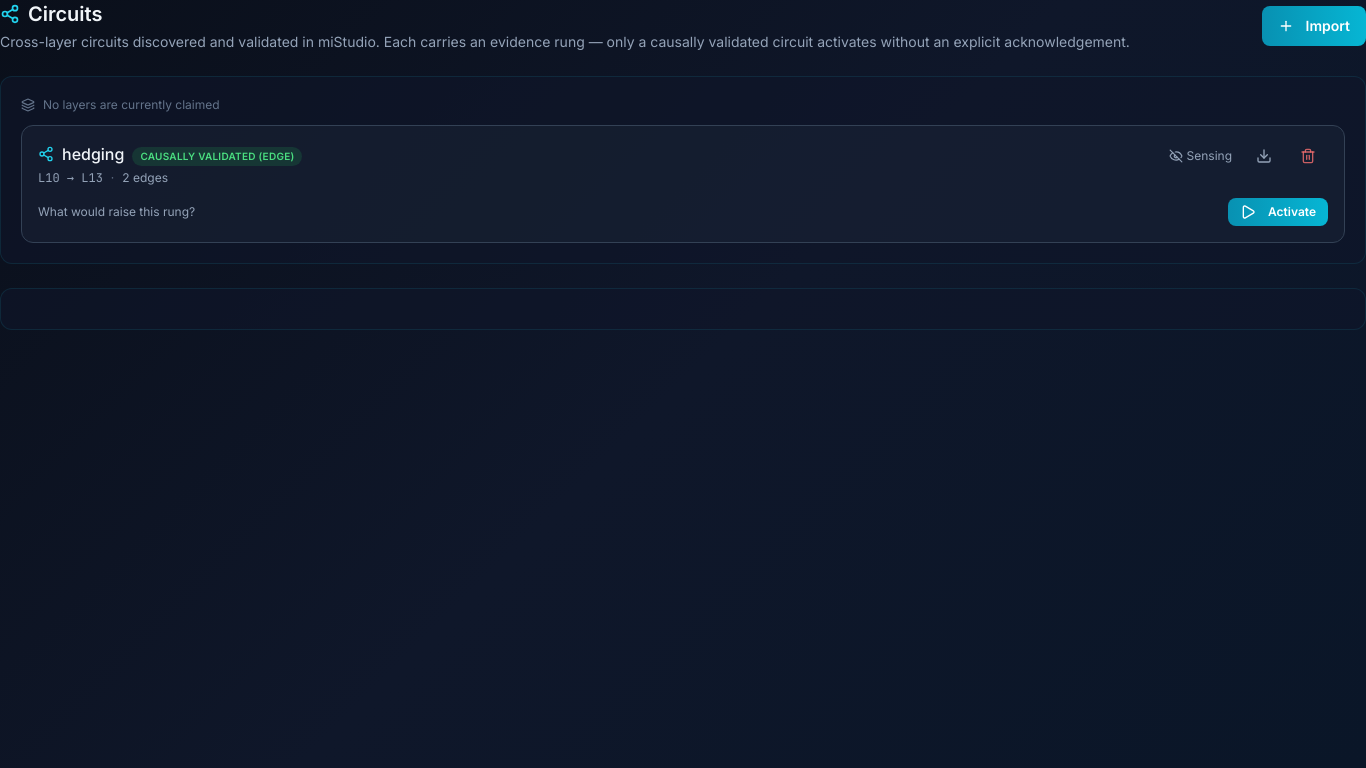
Test: CircuitsPage — layer contention › MOUNTS the dialog on a contention refusal
Click the button with test id "activate-button" at (1278, 212), box top-left (1228, 198), bottom-right (1328, 226)
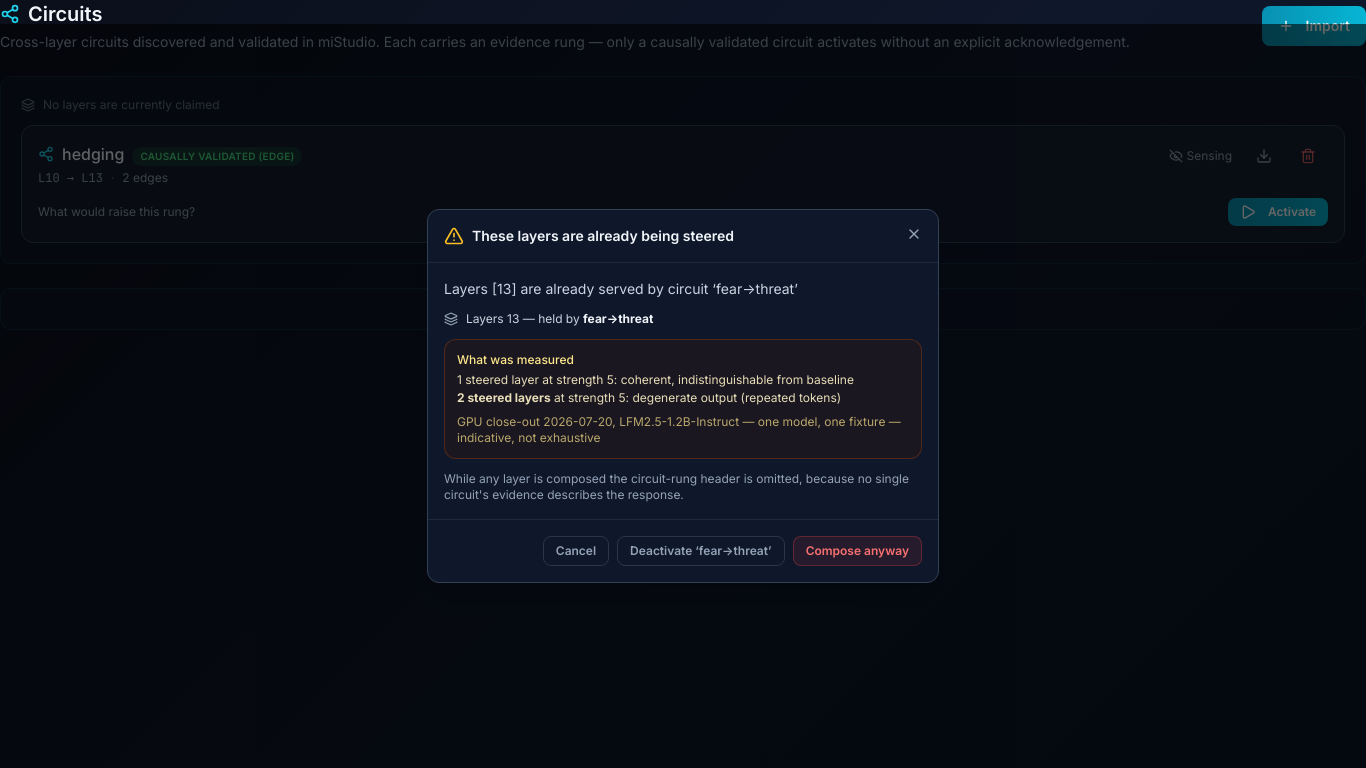
Check: the element with test id "contention-dialog" is shown
Check: the element with test id "contended-layers" shows "fear→threat", box top-left (583, 311), bottom-right (653, 326)
